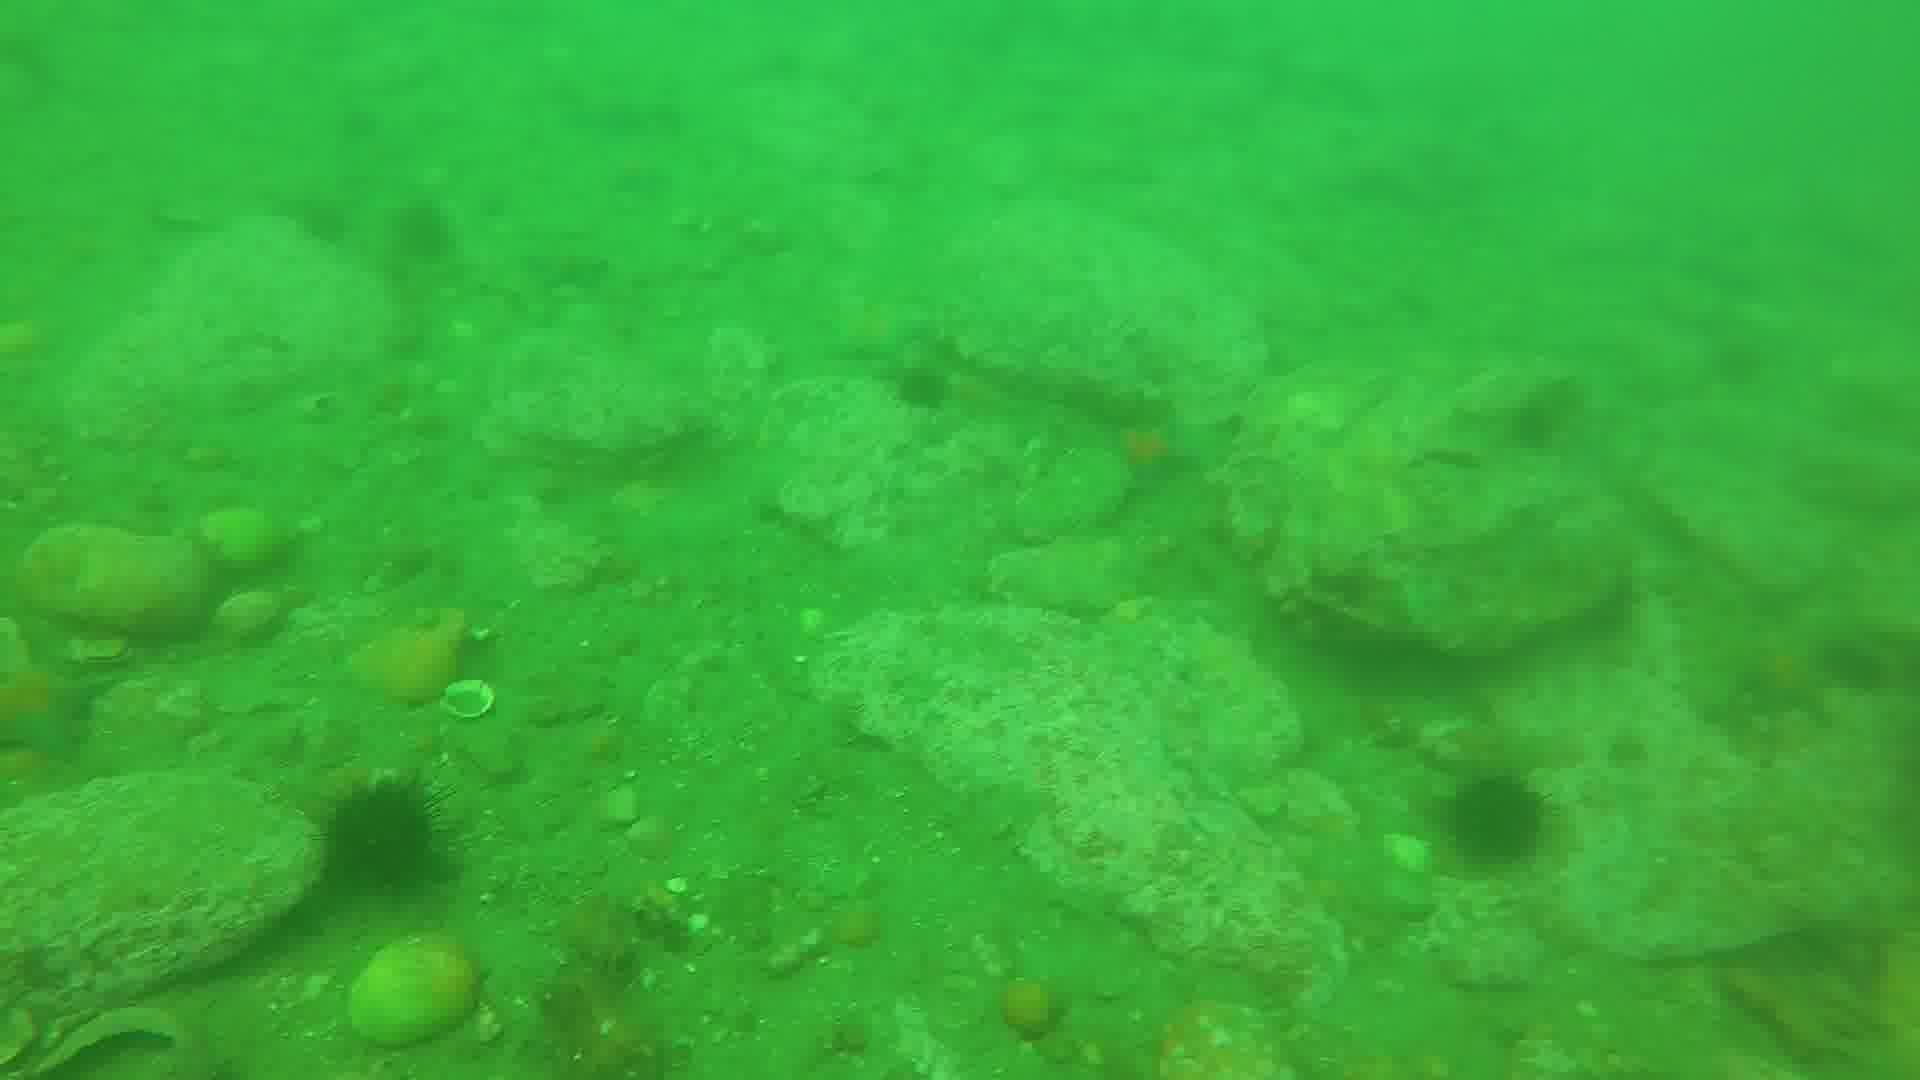echinus: (319, 777, 446, 894), (1447, 774, 1545, 869), (392, 196, 462, 266), (897, 359, 953, 415)
scallop: (702, 313, 771, 417), (436, 682, 500, 725)
starfish: (1116, 425, 1203, 488)
